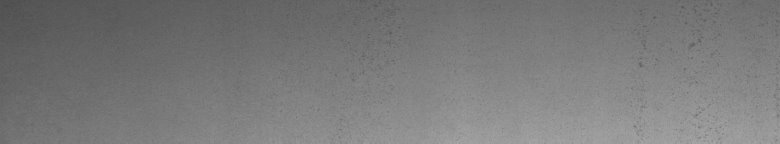ib: (639, 37, 704, 118)
